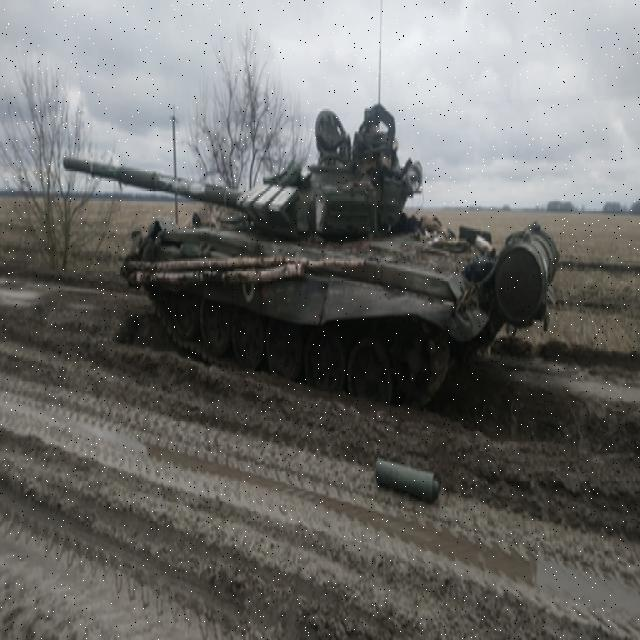TANK: (59, 116, 560, 462)
